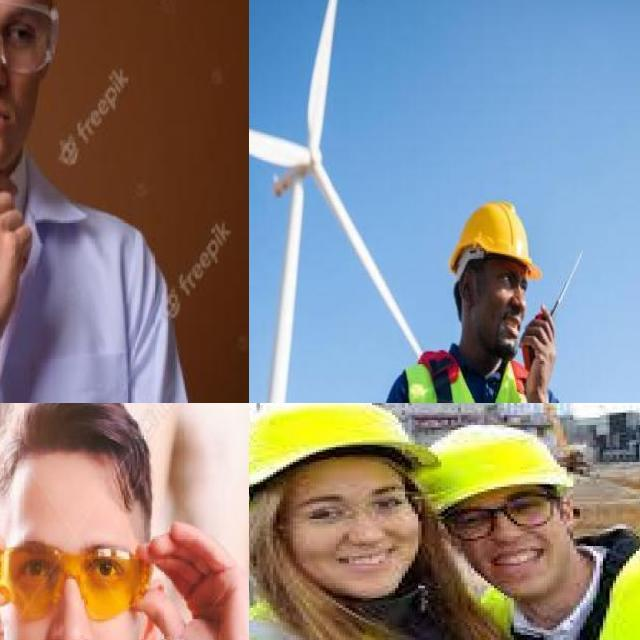face_nomask: (284, 484, 420, 591), (446, 495, 570, 583), (11, 550, 132, 640), (0, 0, 40, 148)
glasses: (0, 539, 148, 628), (437, 488, 562, 552), (0, 0, 56, 75)
hand_noglove: (126, 520, 249, 640), (0, 169, 38, 288)
head_helmet: (249, 403, 450, 486), (412, 423, 570, 512)
head_nohelmet: (0, 403, 150, 490)
person: (0, 0, 200, 403), (0, 403, 249, 640), (404, 403, 640, 640), (249, 403, 483, 640)
